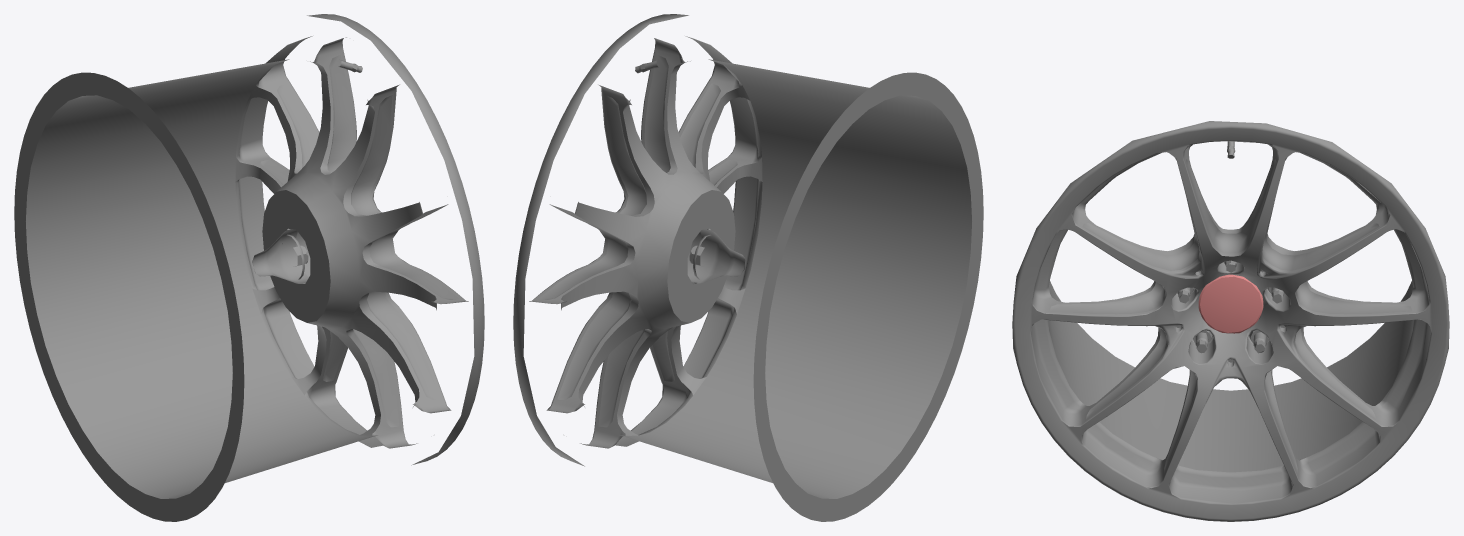
The model's file is mercedes_amg_gt4_rim_lf_Lod1.gltf.
3 renders of one model, left to right at view 1: azimuth 30°, elevation 25°; view 2: azimuth 150°, elevation 25°; view 3: azimuth 270°, elevation 25°, orthographic. The views are drawn at different scales.
Parts seen in each view (by area): view 1: mercedes_amg_gt4_rim_lf_Lod1; view 2: mercedes_amg_gt4_rim_lf_Lod1; view 3: mercedes_amg_gt4_rim_lf_Lod1.
Boxes of the visible parts, x1,y1,x2,y2 form: mercedes_amg_gt4_rim_lf_Lod1: [14, 14, 484, 521]; mercedes_amg_gt4_rim_lf_Lod1: [513, 14, 983, 521]; mercedes_amg_gt4_rim_lf_Lod1: [1012, 121, 1449, 521].
Bounding box in the file's own units: 0.302 × 0.4976 × 0.4976.
